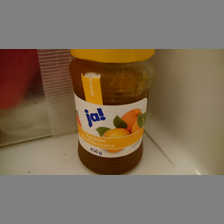jam: (68, 49, 155, 173)
